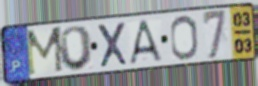7: (201, 8, 229, 62)
A: (128, 18, 165, 66)
M: (25, 25, 66, 78)
O: (59, 24, 95, 72), (169, 14, 200, 61)
X: (96, 20, 130, 70)
